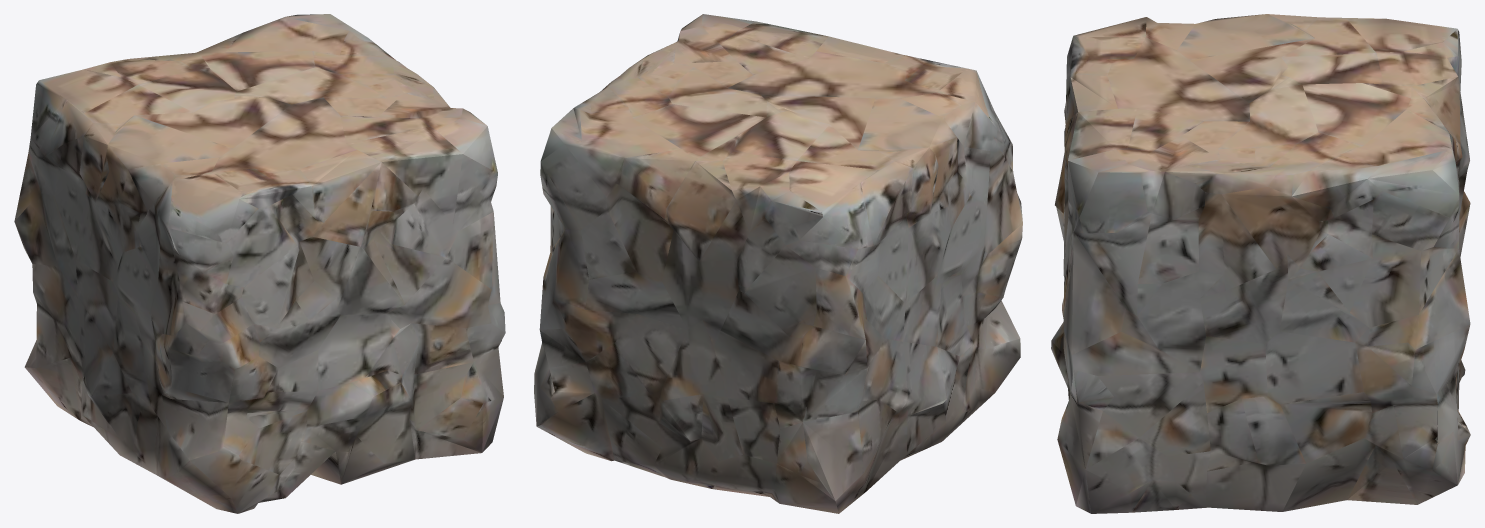
Rendered from blk_cave_wall.glb.
3 views of the same model, side by side, from view 1: azimuth 30°, elevation 25°; view 2: azimuth 150°, elevation 25°; view 3: azimuth 270°, elevation 25° (orthographic). The views are drawn at different scales.
Bounding box in the file's own units: 1.95 × 1.87 × 1.96.
Materials: 1 (1 with a texture image).
